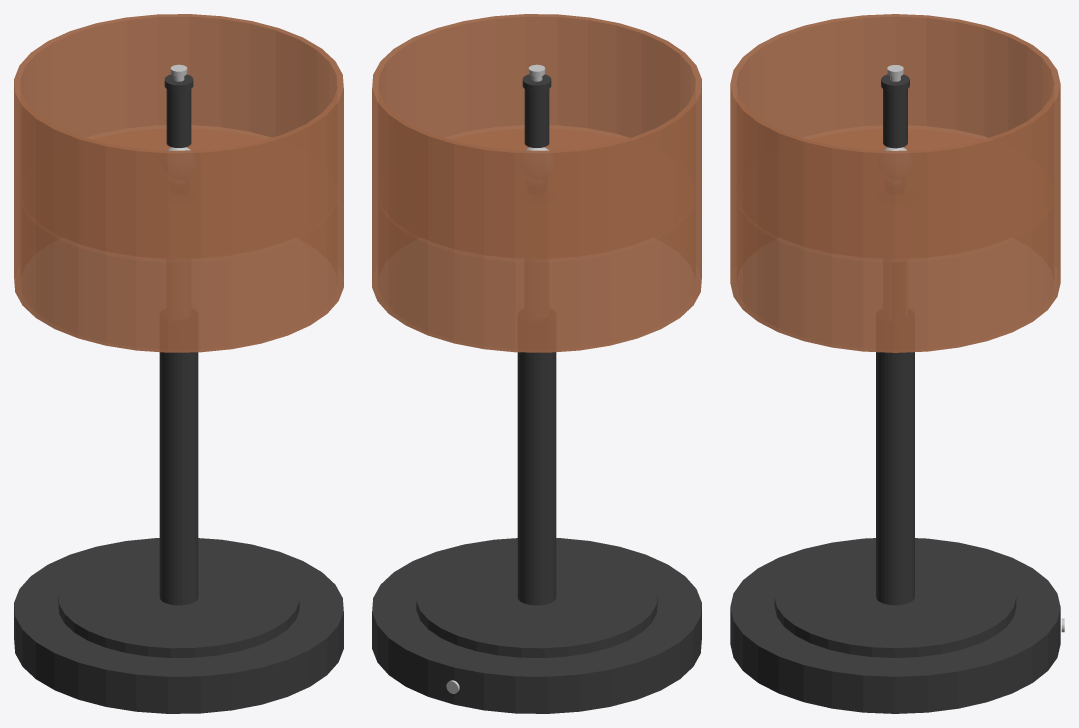
Rendered from Lamp.fbx.
The picture shows the model from 3 angles, left to right: view 1: azimuth 30°, elevation 25°; view 2: azimuth 150°, elevation 25°; view 3: azimuth 270°, elevation 25°; orthographic projection.
Visible parts, largest first — view 1: Cylinder.001, Cylinder; view 2: Cylinder.001, Cylinder; view 3: Cylinder.001, Cylinder.
Part boxes in pixels (x1,y1,x2,y2): Cylinder.001: [14, 14, 343, 352]; Cylinder: [14, 64, 343, 713]; Cylinder.001: [372, 14, 701, 352]; Cylinder: [372, 64, 701, 713]; Cylinder.001: [730, 14, 1060, 352]; Cylinder: [730, 65, 1060, 713].
Size of the model in its own units: 20 by 38.46 by 20.25.
